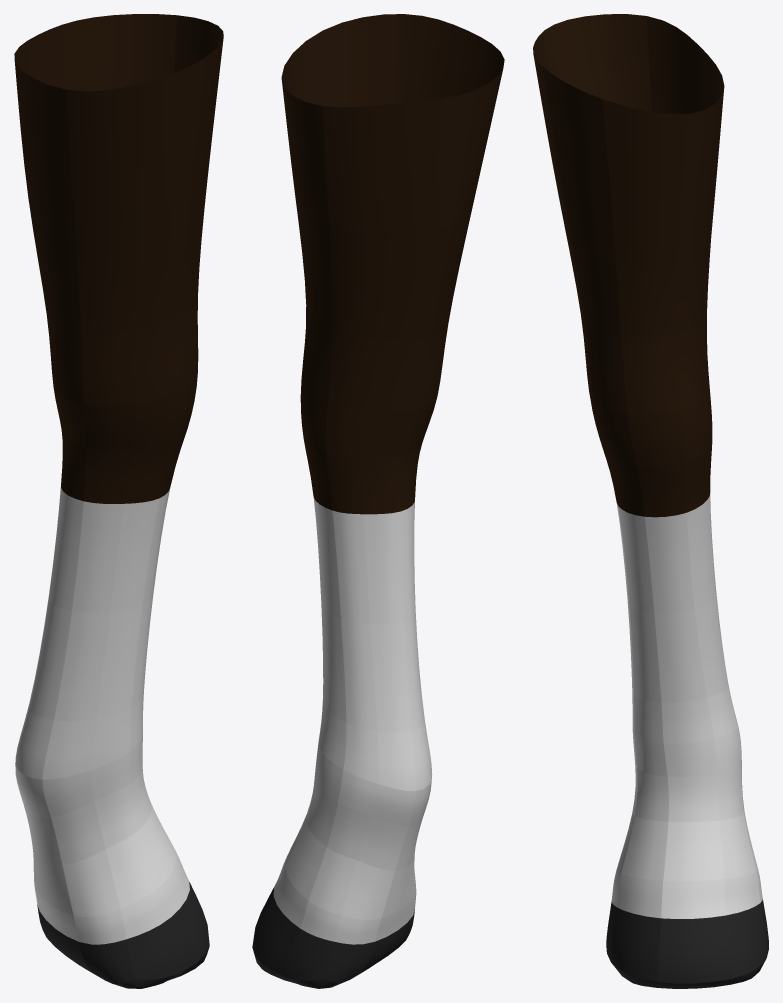
The model's file is F_cow.fbx.
3 renders of one model, left to right at view 1: azimuth 30°, elevation 25°; view 2: azimuth 150°, elevation 25°; view 3: azimuth 270°, elevation 25°, orthographic. The views are drawn at different scales.
Parts seen in each view (by area): view 1: COWfront; view 2: COWfront; view 3: COWfront.
Part boxes in pixels (box(x1,y1,x2,y2)): COWfront: box(14, 14, 223, 988); COWfront: box(252, 14, 504, 988); COWfront: box(533, 14, 768, 988).
Bounding box in the file's own units: 65.31 × 62.34 × 274.
